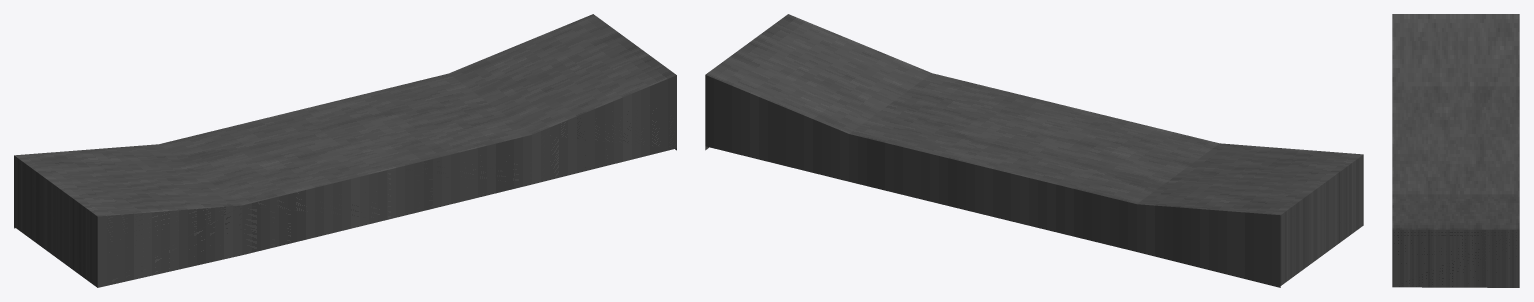
Rendered from pillar.glb.
3 views of the same model, side by side, from view 1: azimuth 30°, elevation 25°; view 2: azimuth 150°, elevation 25°; view 3: azimuth 270°, elevation 25° (orthographic). The views are drawn at different scales.
Parts seen in each view (by area): view 1: Plane; view 2: Plane; view 3: Plane.
Boxes of the visible parts, <box> form: Plane: <box>14,14,676,287</box>; Plane: <box>705,14,1363,287</box>; Plane: <box>1392,14,1519,287</box>.
Size of the model in its own units: 3 by 0.3777 by 0.75.
1 material, 1 textured.
